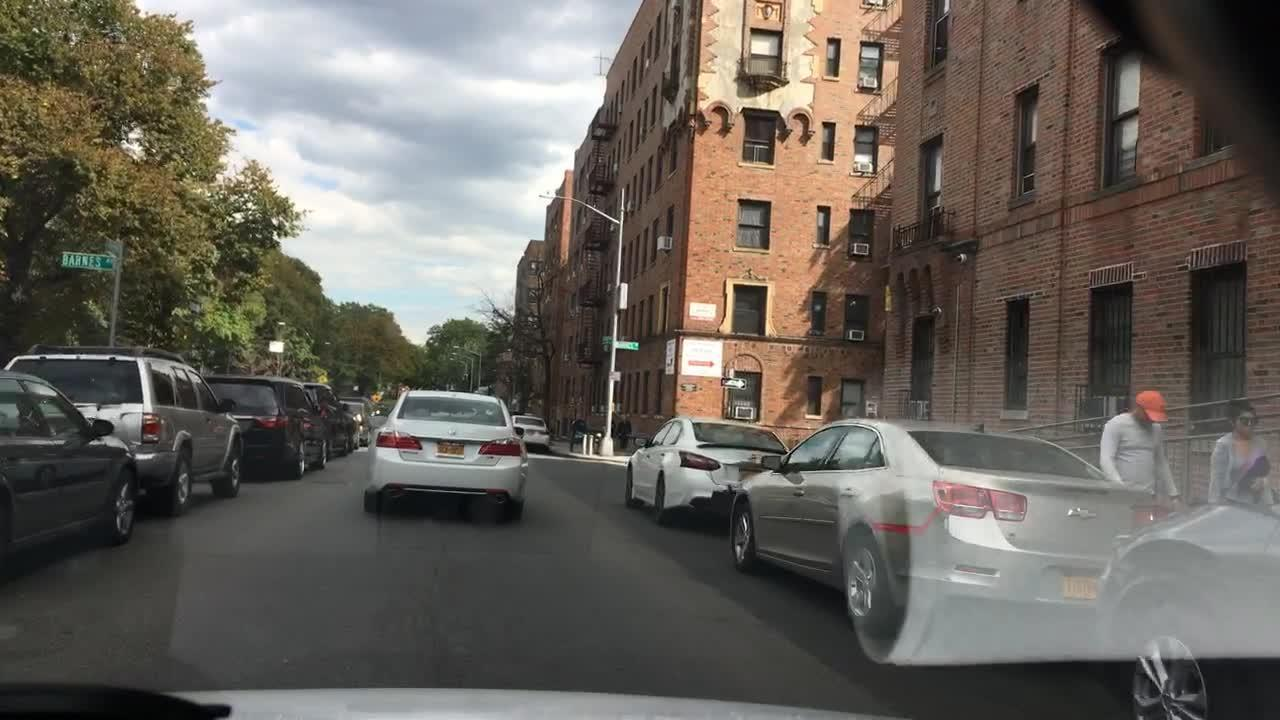chevrolet: (1051, 498, 1110, 533)
